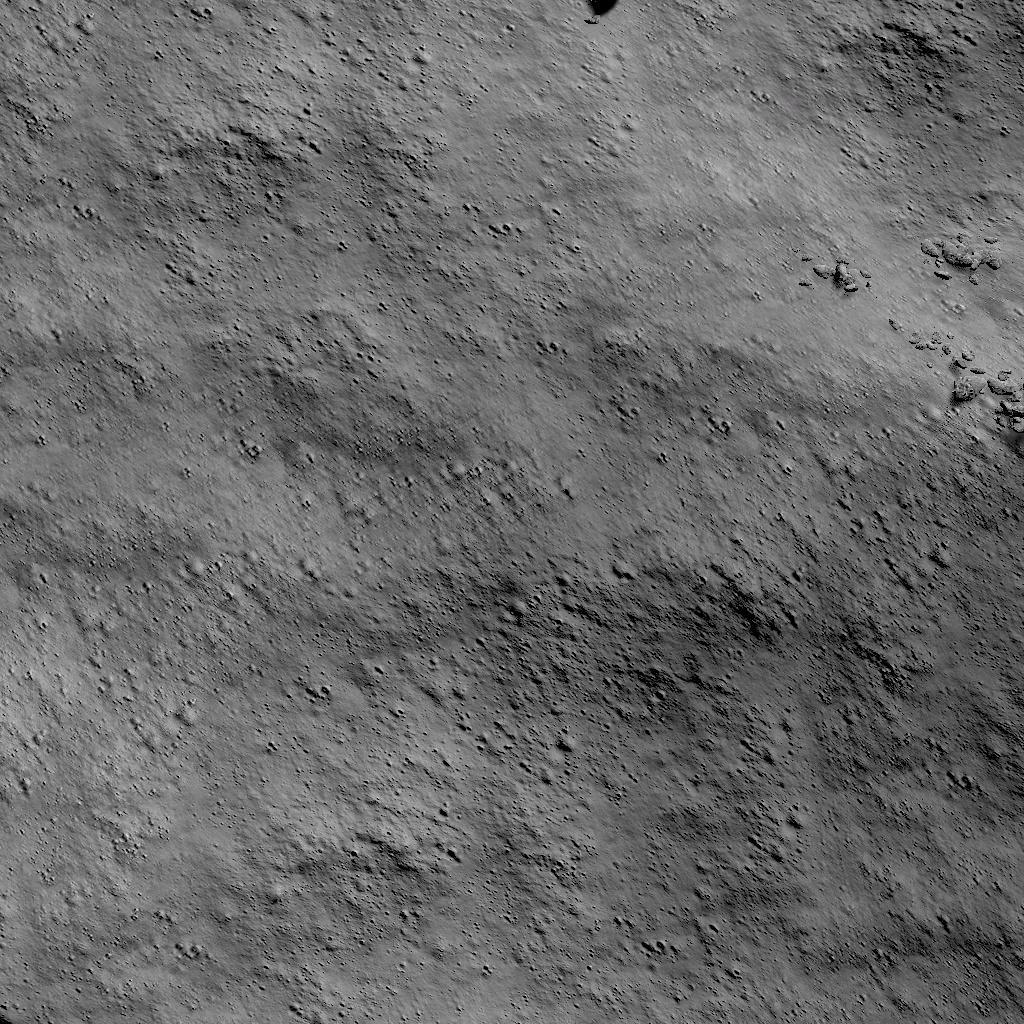Plan surface: (2, 479, 1024, 1024), (4, 2, 556, 444), (653, 0, 1024, 230), (582, 248, 786, 454)
